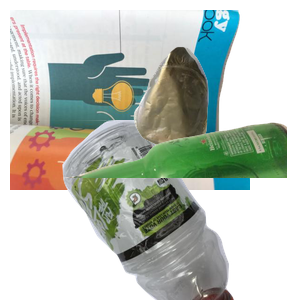glass: (60, 120, 300, 300)
paper: (10, 10, 250, 190)
plastic: (25, 120, 252, 300)
trash: (131, 44, 300, 189)
